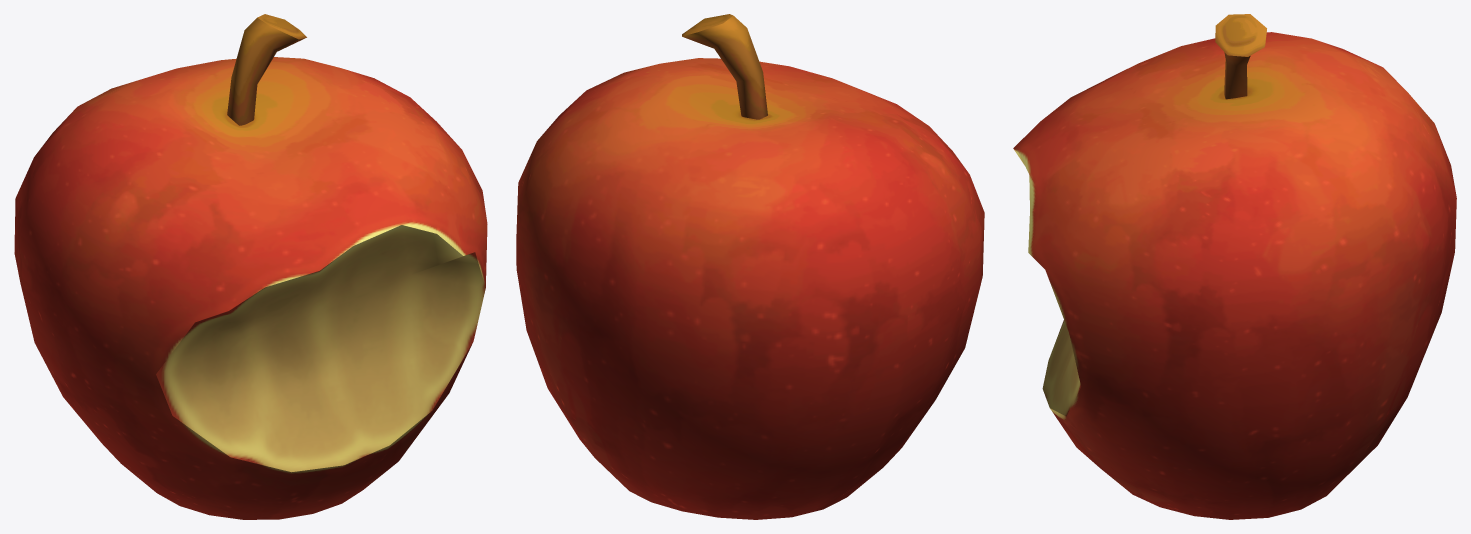
The model's file is SM_AppleRedBite.fbx.
3 renders of one model, left to right at view 1: azimuth 30°, elevation 25°; view 2: azimuth 150°, elevation 25°; view 3: azimuth 270°, elevation 25°, orthographic. The views are drawn at different scales.
Parts seen in each view (by area): view 1: SM_AppleRedBite; view 2: SM_AppleRedBite; view 3: SM_AppleRedBite.
Part boxes in pixels (x1,y1,x2,y2): SM_AppleRedBite: [14, 14, 487, 519]; SM_AppleRedBite: [516, 14, 984, 519]; SM_AppleRedBite: [1013, 14, 1456, 519].
Size of the model in its own units: 13.11 by 14.11 by 12.03.
